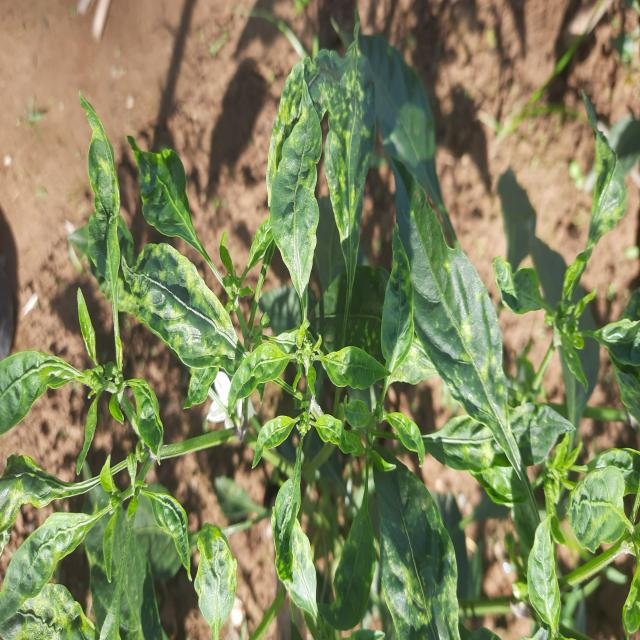thrips: (124, 240, 247, 380), (270, 61, 329, 309), (0, 508, 100, 628), (76, 81, 132, 279), (266, 461, 330, 616)
